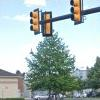traffic lights: (69, 0, 83, 24), (42, 10, 52, 38), (30, 7, 39, 35)
